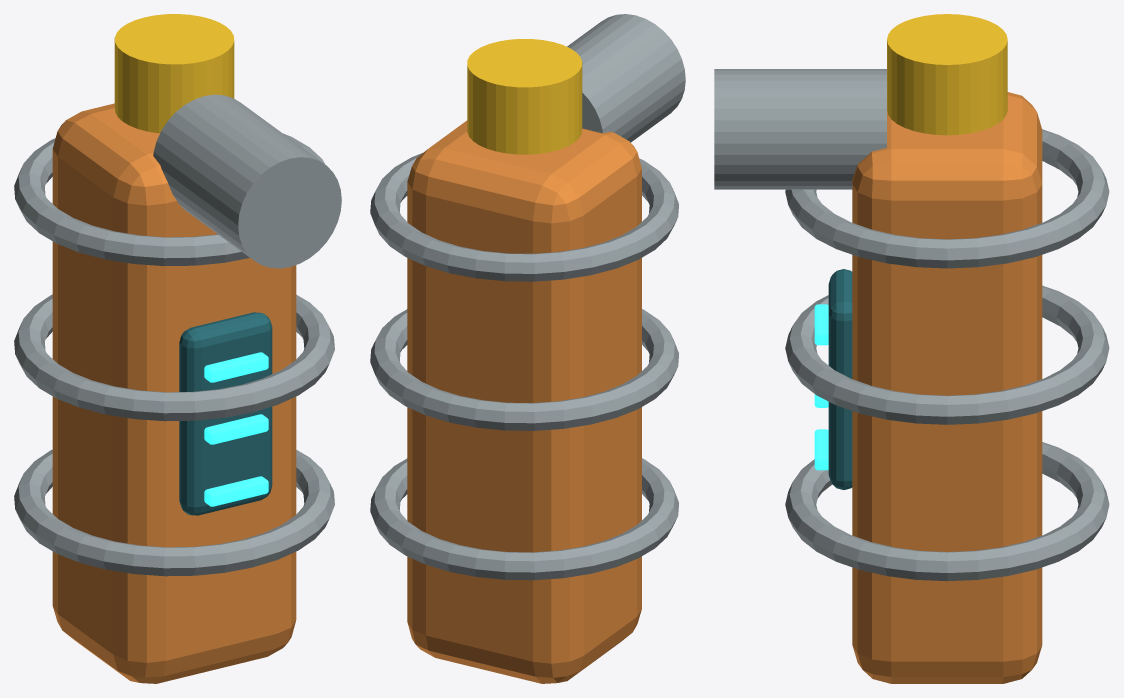
File: medicinal_inhaler_variant_c.glb
3 renders of one model, left to right at view 1: azimuth 30°, elevation 25°; view 2: azimuth 150°, elevation 25°; view 3: azimuth 270°, elevation 25°, orthographic. The views are drawn at different scales.
Visible parts, largest first — view 1: Inhaler body, Mouthpiece, Service ring.002, Service ring.001, Dose window, Release button, Service ring, Dose marking, Dose marking.002, Dose marking.001; view 2: Inhaler body, Release button, Service ring, Service ring.002, Service ring.001, Mouthpiece; view 3: Inhaler body, Mouthpiece, Service ring.001, Service ring.002, Release button, Service ring, Dose window, Dose marking, Dose marking.002.
Boxes of the visible parts, x1,y1,x2,y2 form: Inhaler body: [52, 103, 296, 683]; Mouthpiece: [153, 94, 341, 268]; Service ring.002: [14, 294, 334, 421]; Service ring.001: [14, 449, 334, 576]; Dose window: [179, 312, 272, 515]; Release button: [114, 14, 234, 133]; Service ring: [14, 133, 324, 265]; Dose marking: [204, 476, 268, 506]; Dose marking.002: [204, 352, 268, 382]; Dose marking.001: [204, 414, 268, 444]; Inhaler body: [407, 120, 641, 683]; Release button: [467, 39, 582, 154]; Service ring: [370, 153, 678, 281]; Service ring.002: [370, 309, 678, 430]; Service ring.001: [370, 458, 678, 580]; Mouthpiece: [567, 14, 685, 142]; Inhaler body: [852, 92, 1042, 683]; Mouthpiece: [714, 69, 886, 189]; Service ring.001: [785, 442, 1109, 581]; Service ring.002: [785, 285, 1109, 424]; Release button: [887, 14, 1007, 135]; Service ring: [785, 129, 1109, 268]; Dose window: [828, 269, 852, 489]; Dose marking: [814, 429, 828, 470]; Dose marking.002: [814, 304, 828, 345].
Size of what is drawn, in the model's own units: 0.376 by 0.785 by 0.458.
